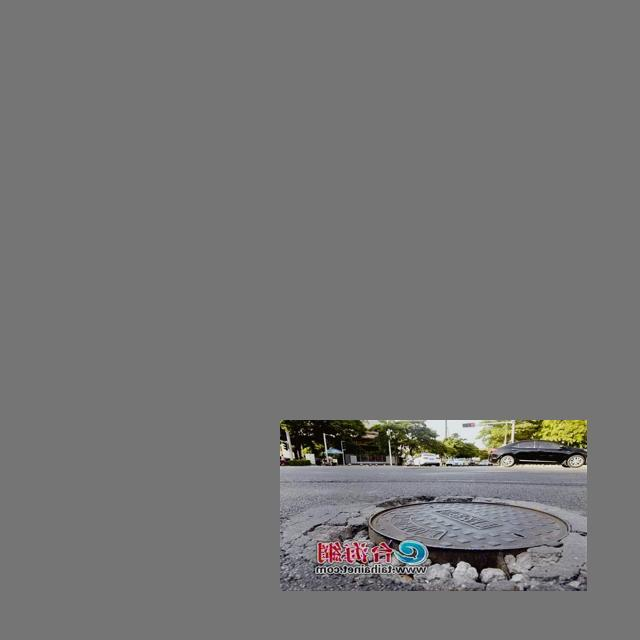circle: (297, 494, 582, 581)
